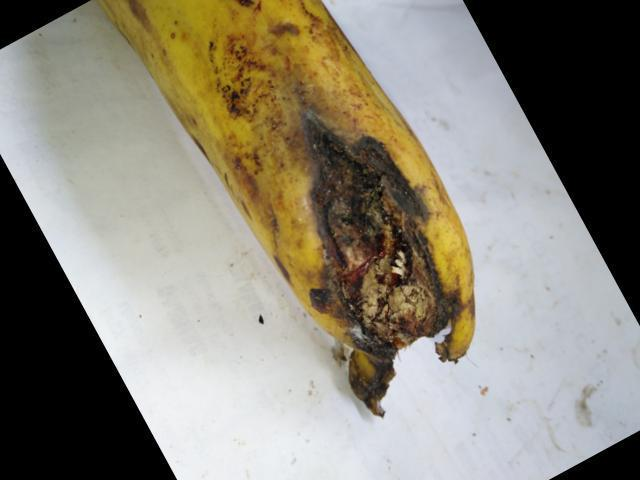ripe: (92, 0, 490, 387)
rotten: (279, 102, 481, 425)
